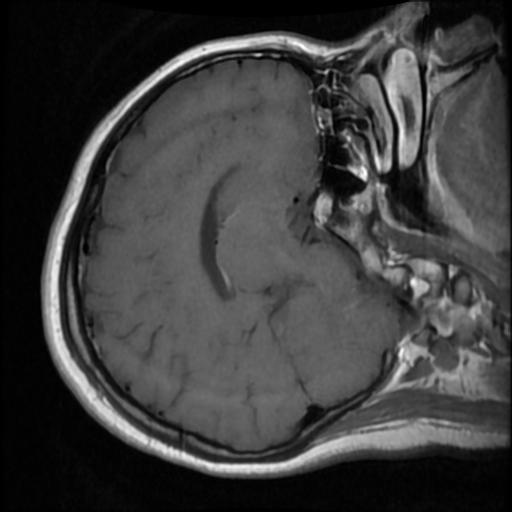pituitary tumour: (312, 192, 332, 225)
